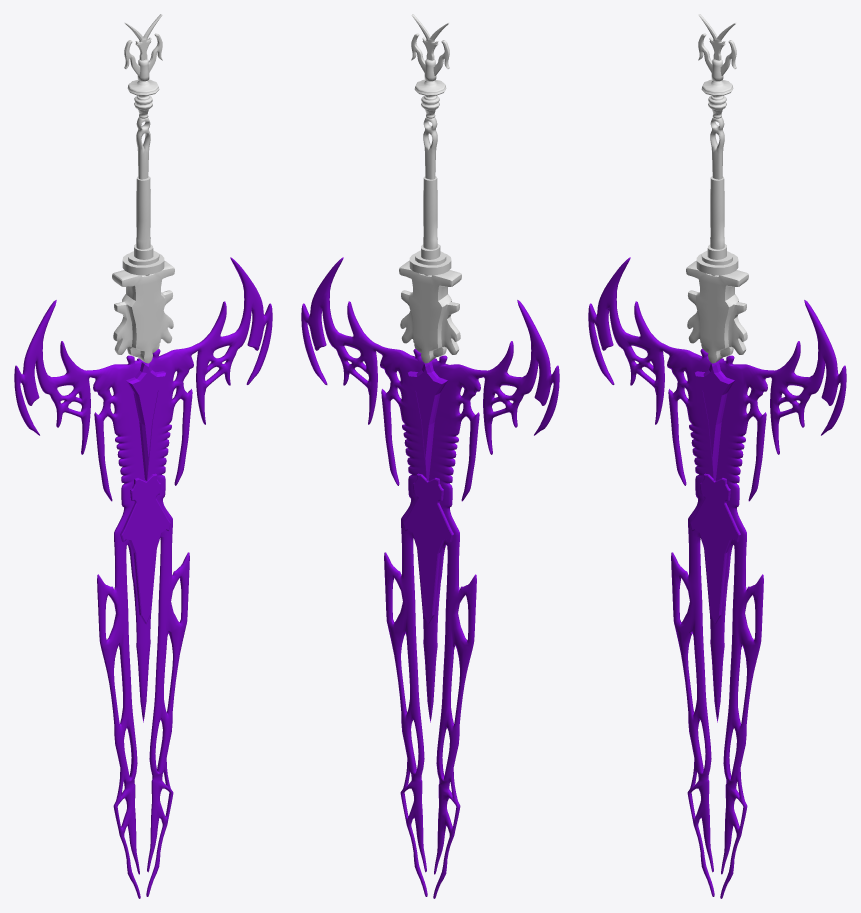
The model's file is EPICWeapon_low.fbx.
The picture shows the model from 3 angles, left to right: view 1: azimuth 30°, elevation 25°; view 2: azimuth 150°, elevation 25°; view 3: azimuth 330°, elevation 25°; orthographic projection.
Parts seen in each view (by area): view 1: Cube, Cube.001, Cube.008, Cube.002, Cube.007, Cube.004, Cube.003, Cube.006; view 2: Cube, Cube.001, Cube.008, Cube.002, Cube.007, Cube.004, Cube.003, Cube.006; view 3: Cube, Cube.001, Cube.008, Cube.002, Cube.007, Cube.004, Cube.003, Cube.006.
Boxes of the visible parts, left/top/right/bottom form: Cube: left=14, top=257, right=272, bottom=898; Cube.001: left=112, top=261, right=174, bottom=363; Cube.008: left=120, top=473, right=170, bottom=624; Cube.002: left=122, top=176, right=164, bottom=275; Cube.007: left=126, top=358, right=165, bottom=480; Cube.004: left=127, top=59, right=159, bottom=118; Cube.003: left=136, top=117, right=150, bottom=179; Cube.006: left=124, top=33, right=162, bottom=75; Cube: left=301, top=257, right=559, bottom=898; Cube.001: left=399, top=261, right=461, bottom=363; Cube.008: left=403, top=473, right=453, bottom=624; Cube.002: left=409, top=176, right=451, bottom=275; Cube.007: left=408, top=358, right=447, bottom=480; Cube.004: left=414, top=59, right=446, bottom=118; Cube.003: left=423, top=117, right=437, bottom=179; Cube.006: left=411, top=33, right=449, bottom=75; Cube: left=588, top=257, right=846, bottom=898; Cube.001: left=686, top=261, right=748, bottom=363; Cube.008: left=690, top=473, right=740, bottom=624; Cube.002: left=696, top=176, right=738, bottom=275; Cube.007: left=695, top=358, right=734, bottom=480; Cube.004: left=701, top=59, right=733, bottom=118; Cube.003: left=710, top=117, right=724, bottom=179; Cube.006: left=698, top=33, right=736, bottom=75.
Bounding box in the file's own units: 940 × 3066 × 126.
